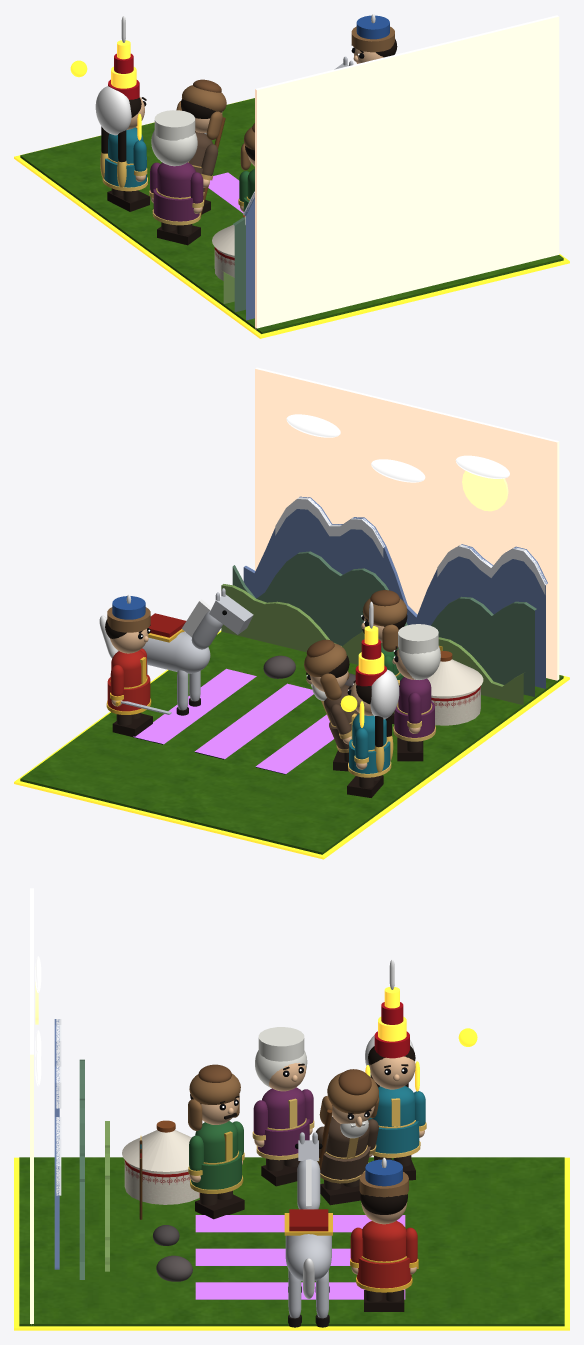
3 views of the same model, one above another, from view 1: azimuth 30°, elevation 25°; view 2: azimuth 150°, elevation 25°; view 3: azimuth 270°, elevation 25° (orthographic). The views are drawn at different scales.
Parts seen in each view (by area): view 1: Аспан, Жер, Жиек (×2), Torso (×2), Skirt (×2), Veil, Kimeshek, Turban, Орта жота, Алыс жота, Tymaq, Borik (+4 smaller); view 2: Аспан, Жер, Орта жота, Алыс жота, Жиек (×4), Жақын төбе, Torso (×3), Қар, Бұлт (×3), Skirt (×3), Tymaq (×2), Күмбез (+11 smaller); view 3: Жер, Жиек (×4), Torso (×6), Skirt (×5), Face (×3), Tymaq (×2), Күмбез, Кереге, Аспан, Turban, Орта жота, Алыс жота (+12 smaller).
Part boxes in pixels (box(x1,y1,x2,y2)): Аспан: box(255, 15, 559, 329); Жер: box(20, 98, 563, 333); Жиек (×2): box(14, 98, 569, 338); Torso (×2): box(108, 127, 195, 197); Skirt (×2): box(104, 157, 199, 221); Veil: box(95, 86, 131, 135); Kimeshek: box(151, 130, 197, 166); Turban: box(154, 110, 195, 140); Орта жота: box(233, 217, 245, 312); Алыс жота: box(244, 193, 254, 320); Tymaq: box(182, 85, 226, 112); Borik: box(356, 15, 389, 39); Аспан: box(255, 367, 559, 680); Жер: box(20, 631, 563, 854); Орта жота: box(232, 551, 536, 696); Алыс жота: box(243, 496, 547, 688); Жиек (×4): box(14, 630, 569, 859); Жақын төбе: box(221, 584, 524, 705); Torso (×3): box(111, 632, 431, 713); Қар: box(275, 497, 547, 594); Бұлт (×3): box(286, 414, 509, 482); Skirt (×3): box(107, 674, 434, 773); Tymaq (×2): box(304, 598, 407, 676); Күмбез: box(427, 659, 483, 696); Жер: box(19, 1157, 564, 1326); Жиек (×4): box(14, 1157, 569, 1330); Torso (×6): box(195, 1086, 414, 1281); Skirt (×5): box(191, 1119, 419, 1288); Face (×3): box(201, 1056, 415, 1124); Tymaq (×2): box(189, 1072, 378, 1114); Күмбез: box(122, 1130, 191, 1171); Кереге: box(124, 1161, 199, 1204); Аспан: box(30, 888, 33, 1324); Turban: box(258, 1027, 304, 1061); Орта жота: box(79, 1059, 84, 1279); Алыс жота: box(54, 1019, 59, 1269).
Size of the model in its own units: 1.06 by 0.7206 by 1.33.
55 materials, 2 textured.
